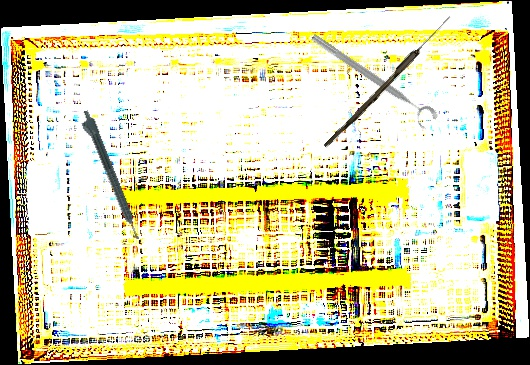Fixation Ring: (304, 30, 440, 133)
Handpiece: (75, 109, 143, 243)
Surgical Spoon: (323, 13, 453, 151)
